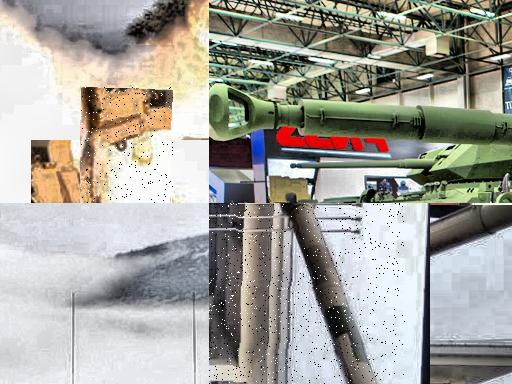tanks: (280, 204, 378, 384), (210, 86, 512, 142), (312, 146, 512, 204), (81, 89, 174, 204)
